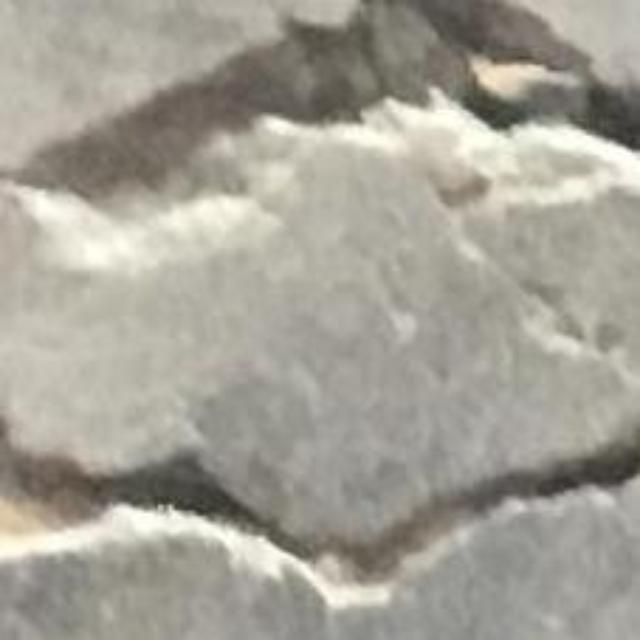crack: (0, 423, 639, 597)
